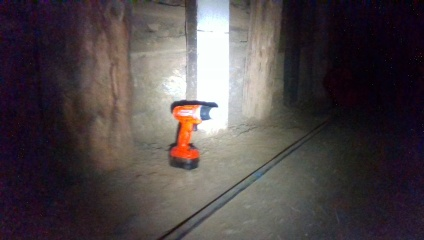drill: (167, 101, 222, 172)
